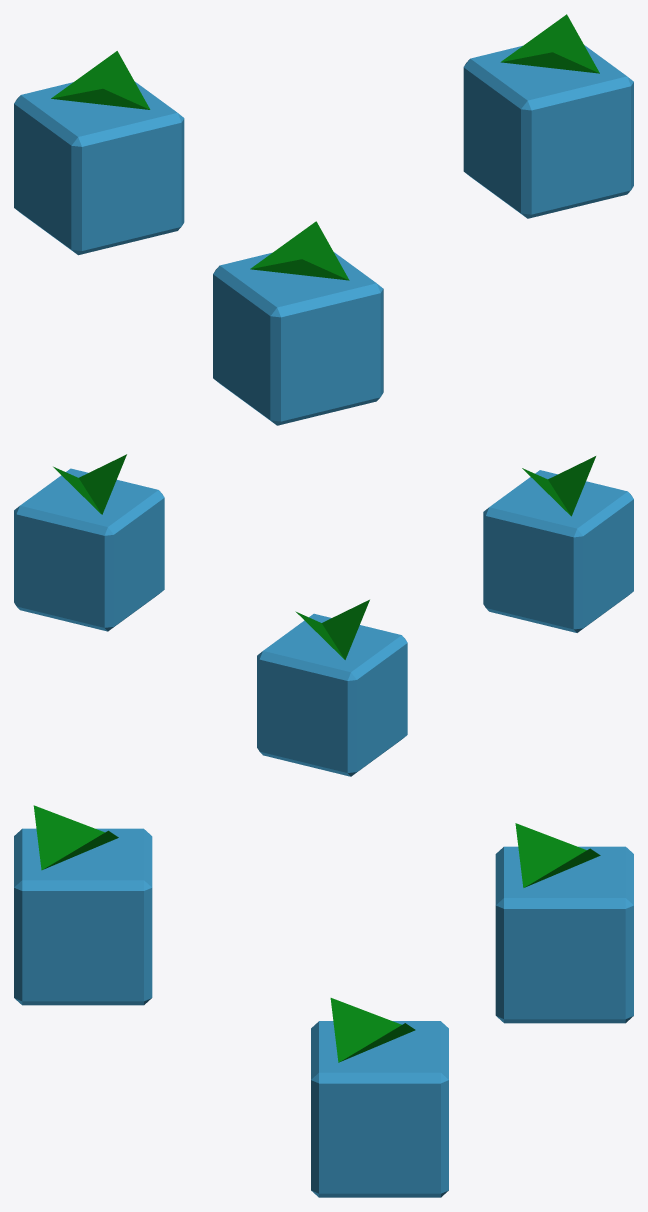
Rendered from FRUIT_BARDUR.glb.
3 renders of one model, top to bottom at view 1: azimuth 30°, elevation 25°; view 2: azimuth 150°, elevation 25°; view 3: azimuth 270°, elevation 25°, orthographic. The views are drawn at different scales.
Visible parts, largest first — view 1: Fruit_Bardur; view 2: Fruit_Bardur; view 3: Fruit_Bardur.
Boxes of the visible parts, <box> form: Fruit_Bardur: <box>14,14,633,425</box>; Fruit_Bardur: <box>14,454,633,776</box>; Fruit_Bardur: <box>14,805,633,1197</box>.
Size of the model in its own units: 2.21 by 0.7024 by 2.23.
Materials: 1 (1 with a texture image).
